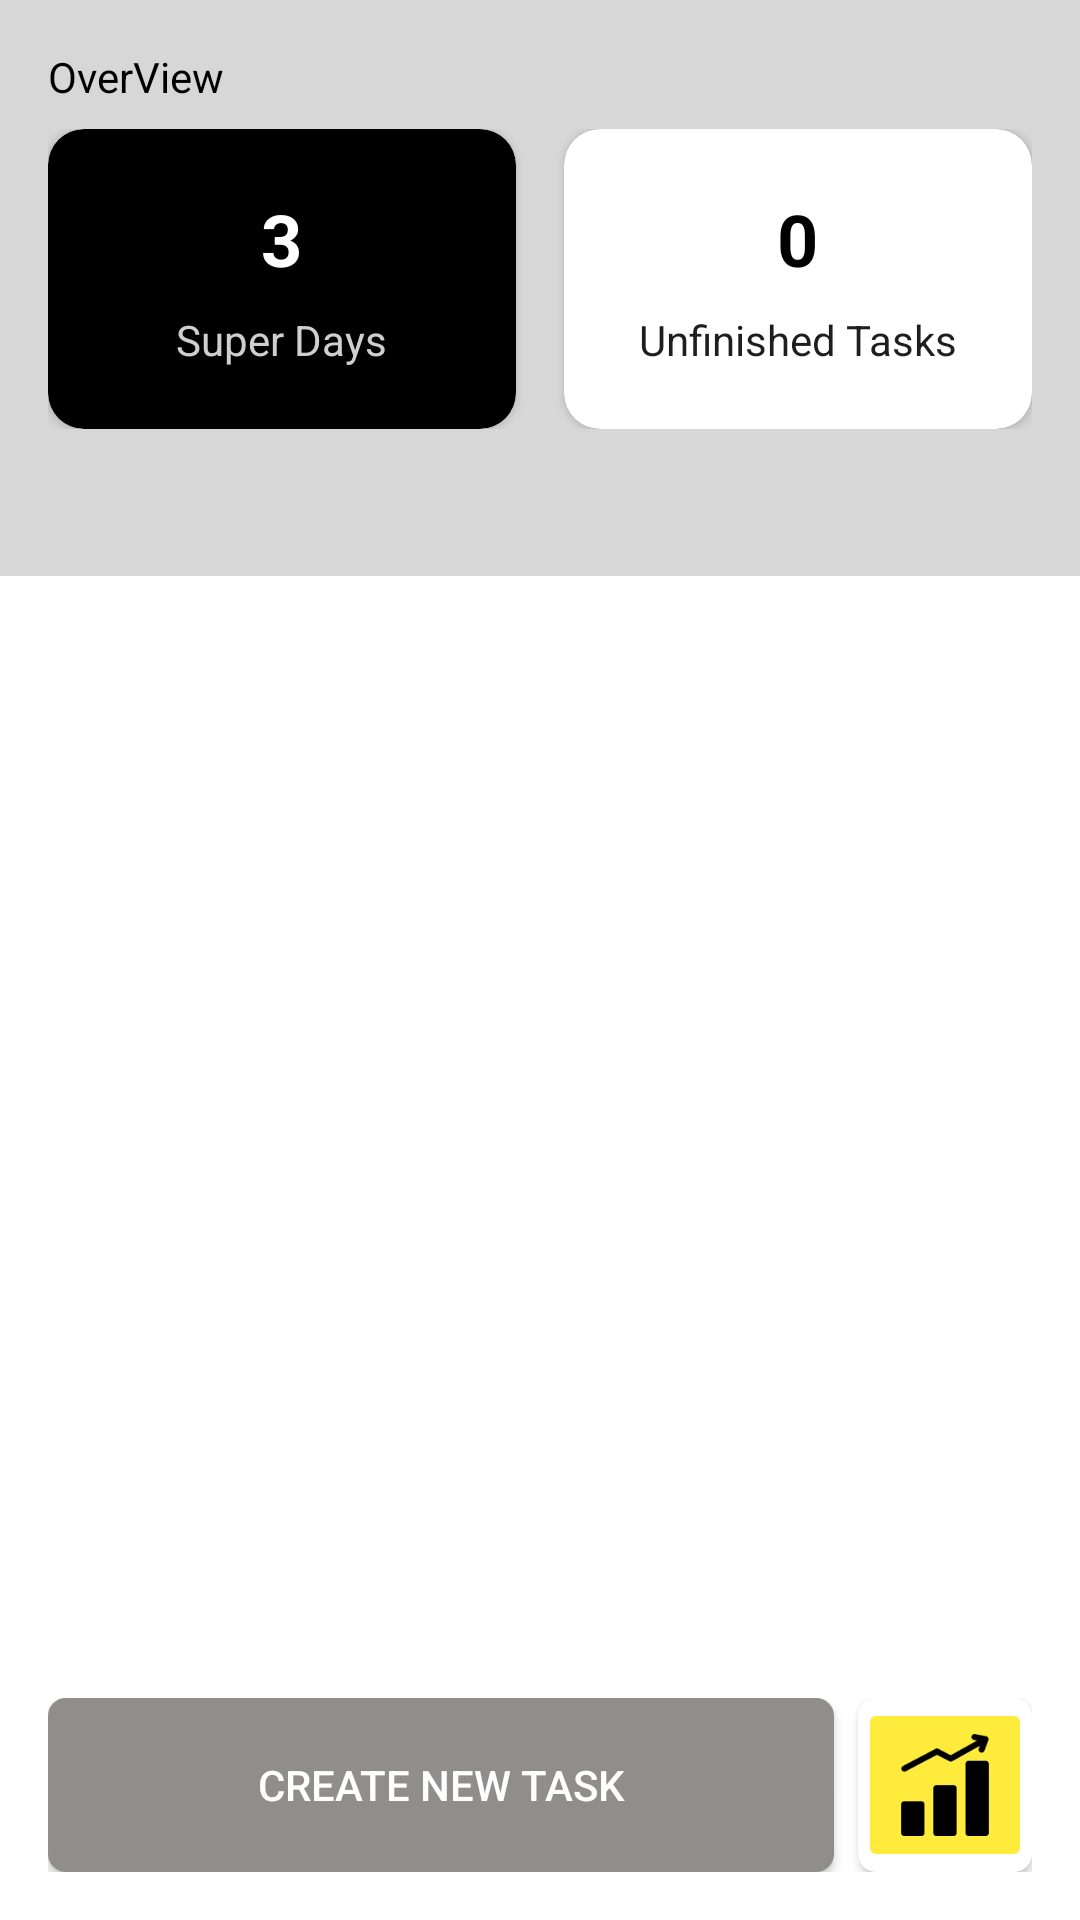

Screen size 1080 × 1920. Icon name, then its center in pixels as (x=x, y=y):
insights: (x=946, y=1794)
